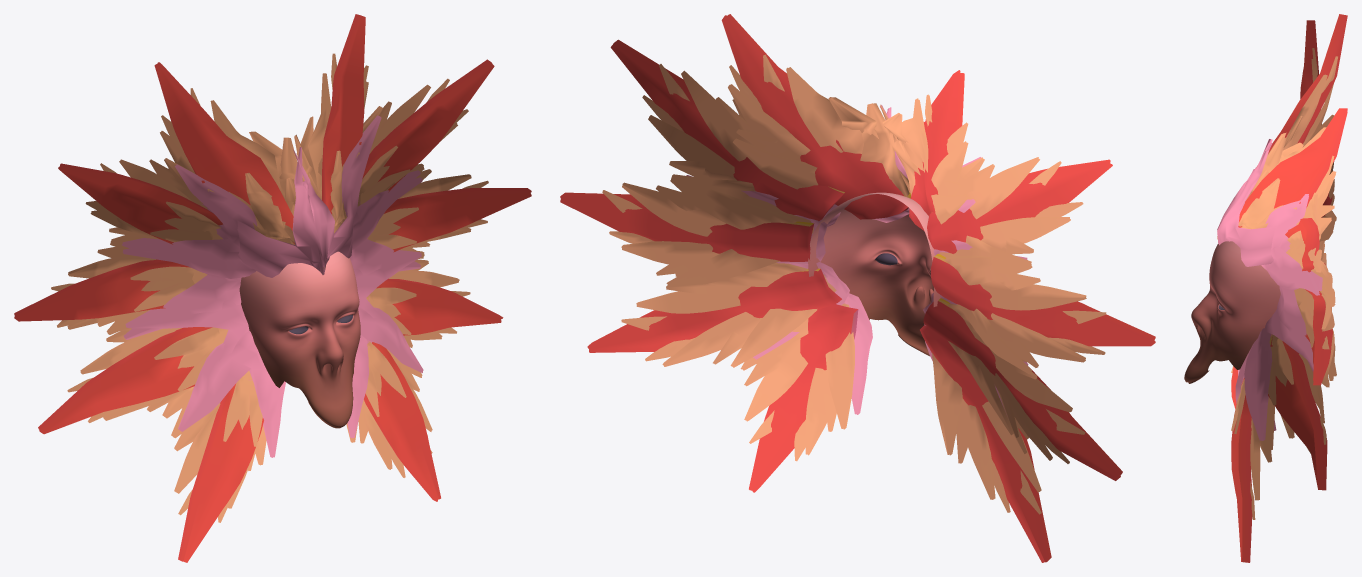
File: Mask_Normal9.glb
The picture shows the model from 3 angles, left to right: view 1: azimuth 30°, elevation 25°; view 2: azimuth 150°, elevation 25°; view 3: azimuth 270°, elevation 25°; orthographic projection. The views are drawn at different scales.
Visible parts, largest first — view 1: BézierCurve.001, Female Average Head; view 2: BézierCurve.001, Female Average Head; view 3: BézierCurve.001, Female Average Head.
Boxes of the visible parts, x1,y1,x2,y2 form: BézierCurve.001: (14,14,531,562); Female Average Head: (239,251,360,428); BézierCurve.001: (560,14,1155,562); Female Average Head: (808,192,940,356); BézierCurve.001: (1217,14,1347,562); Female Average Head: (1184,241,1280,383).
Bounding box in the file's own units: 0.6544 × 0.5562 × 0.1863.
Materials: 1 (1 with a texture image).
